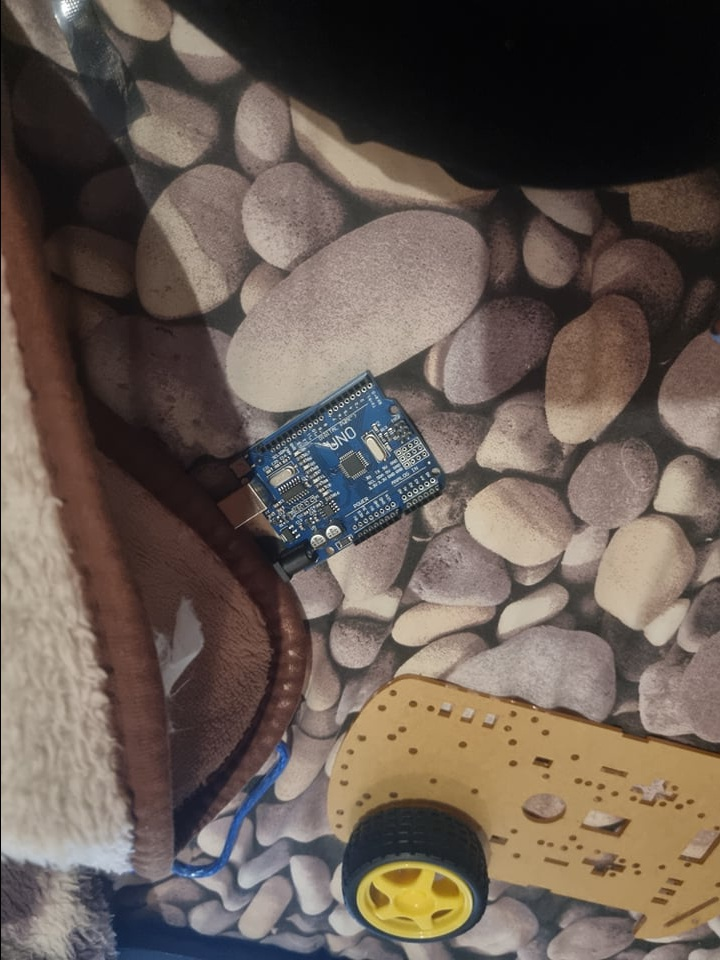UNO R3: (217, 367, 443, 584)
